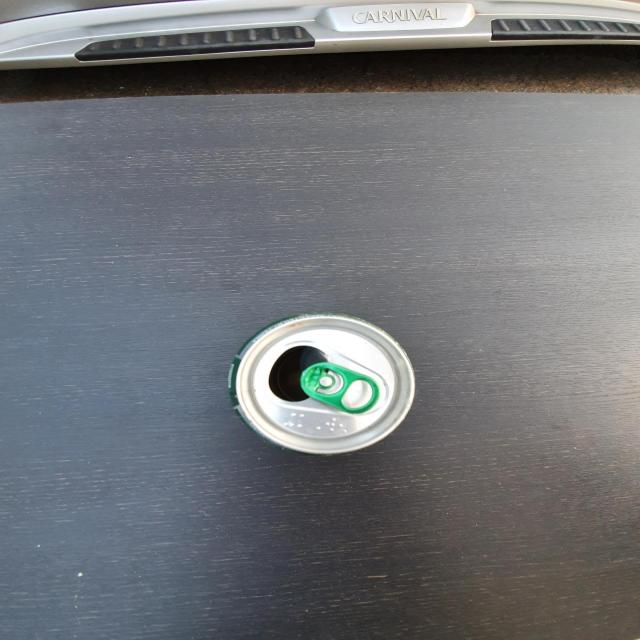can: (228, 313, 415, 455)
